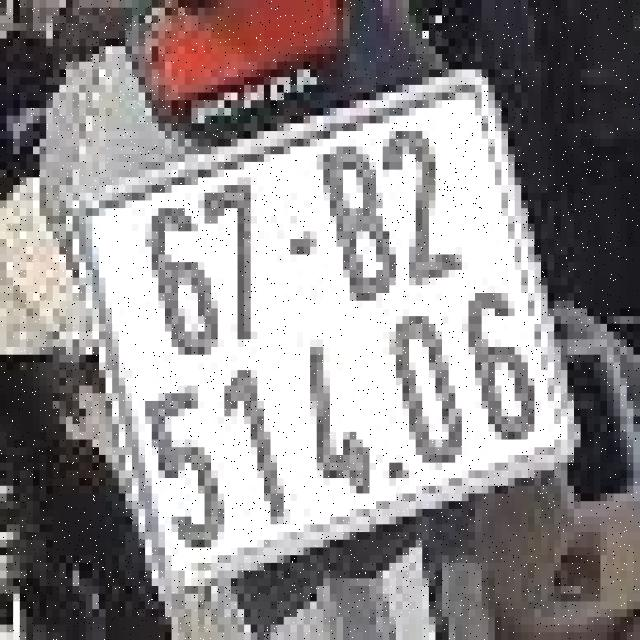0: (370, 299, 478, 478)
1: (207, 355, 299, 532)
2: (371, 114, 477, 295)
4: (287, 325, 387, 508)
5: (133, 376, 243, 561)
6: (448, 271, 550, 449), (130, 197, 232, 370)
7: (193, 171, 295, 348)
B: (308, 136, 409, 313)
